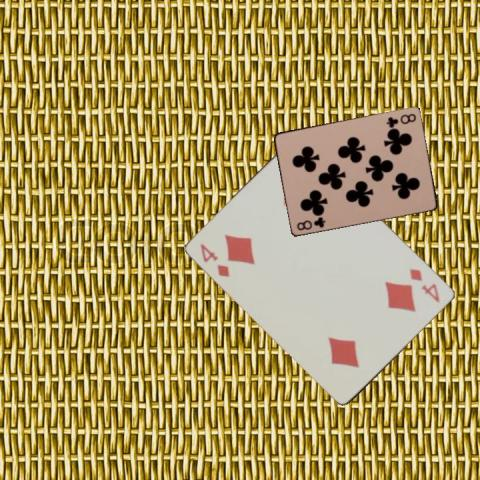4d: (407, 265, 442, 304), (197, 240, 232, 279)
8c: (384, 110, 418, 128), (294, 214, 327, 232)
